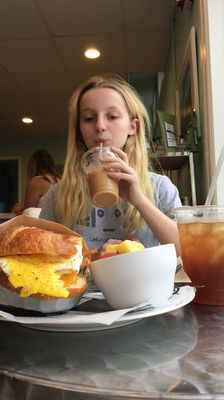pizza: (171, 205, 223, 306), (82, 144, 121, 209)
soup: (0, 213, 87, 300)
sushi: (88, 241, 178, 310)
